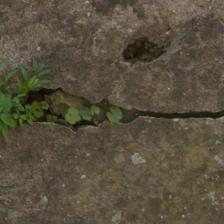Crack: (10, 42, 212, 95)
